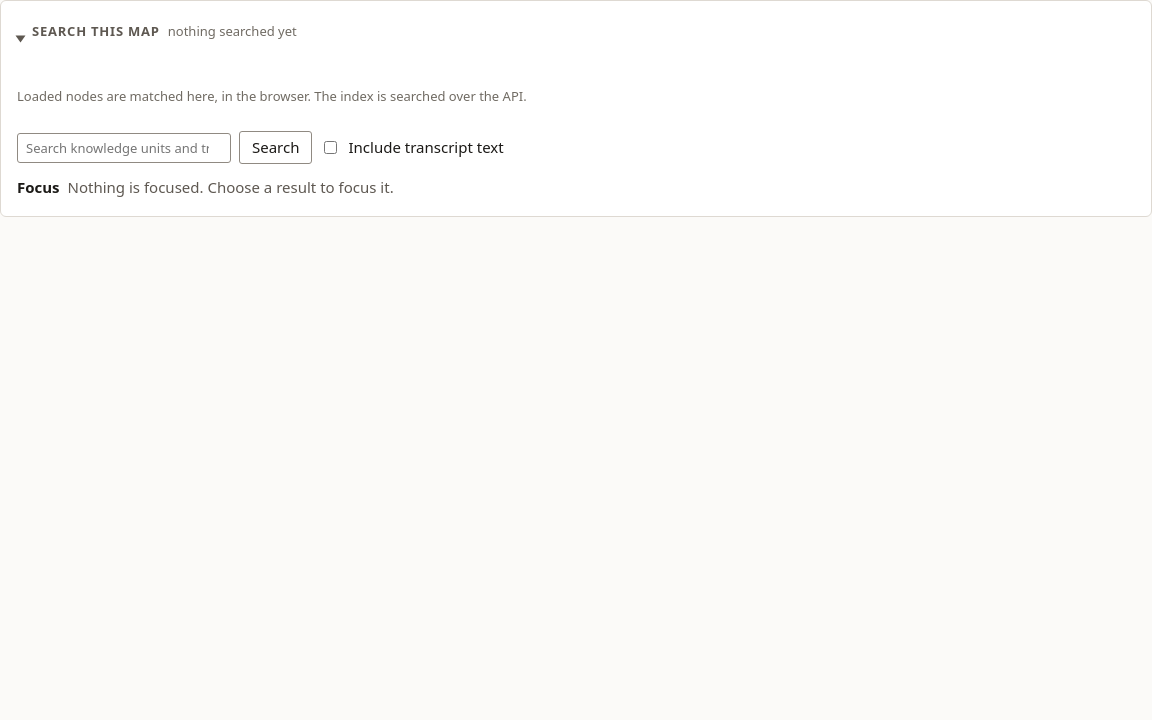
MapSearchRail › explains a caption hit and refuses to make it selectable
Type "coverage" into the search field labelled "Search" at (124, 148), box [17,133,231,163]
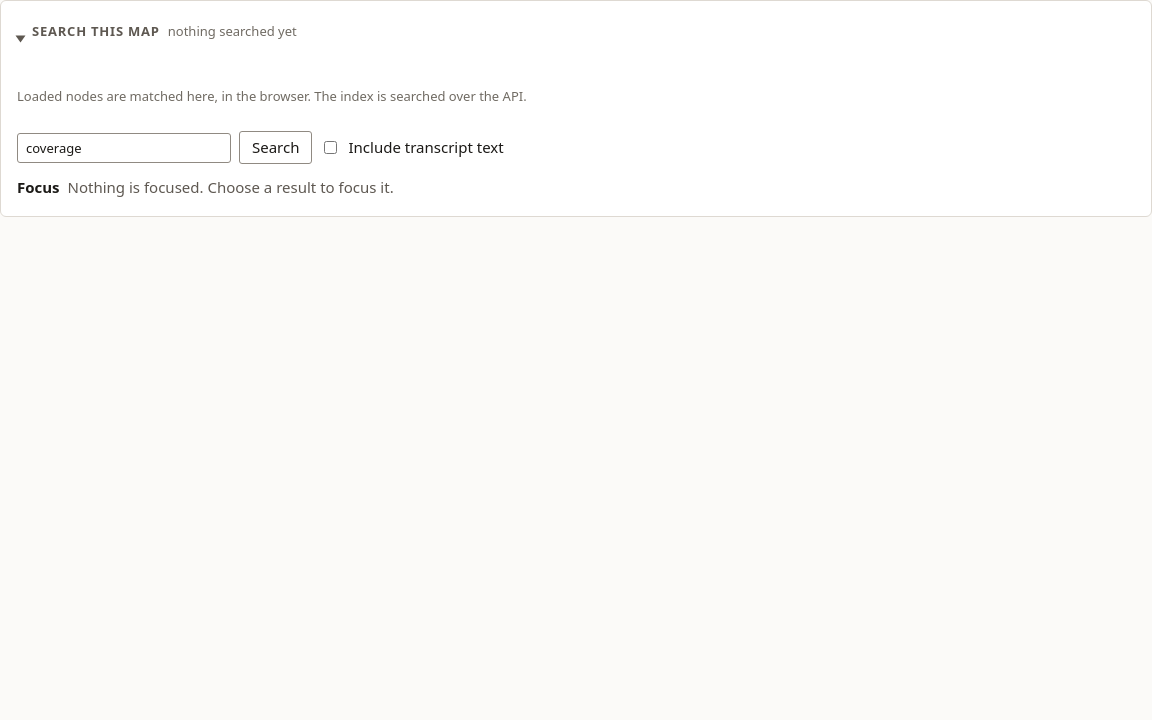
Click the text "Include transcript text" at (412, 148), box [320,136,504,159]
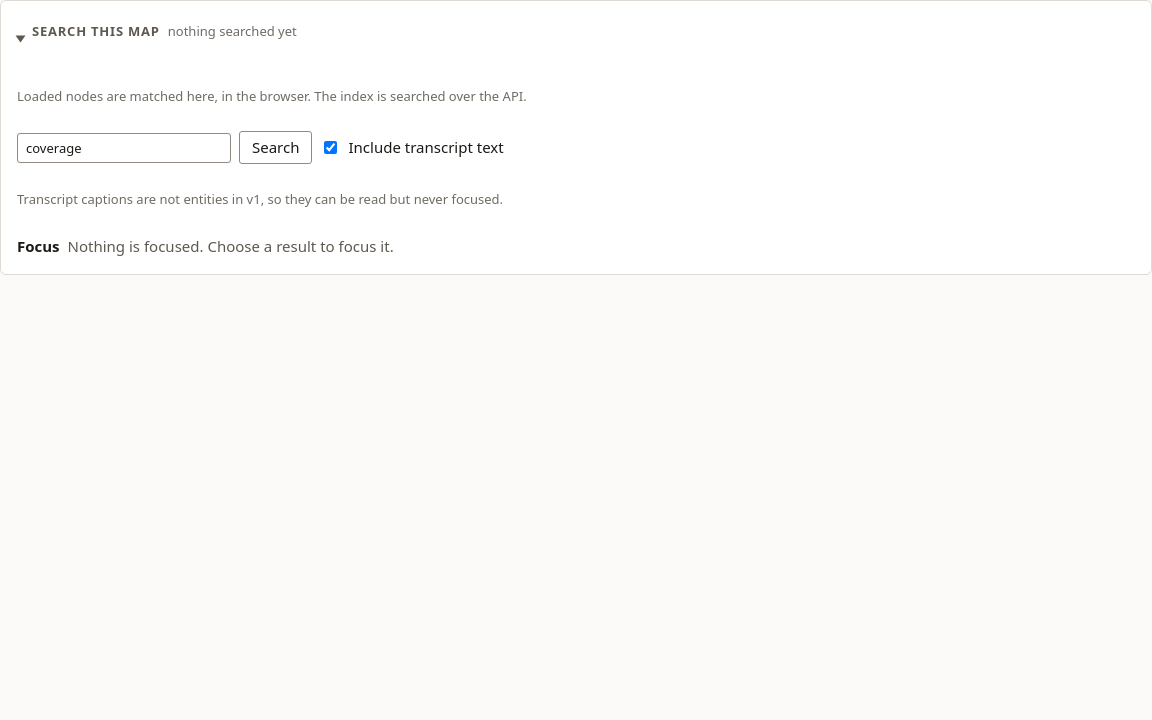
Click the button "Search" at (276, 148), box [239,131,312,164]
(page scrolled)
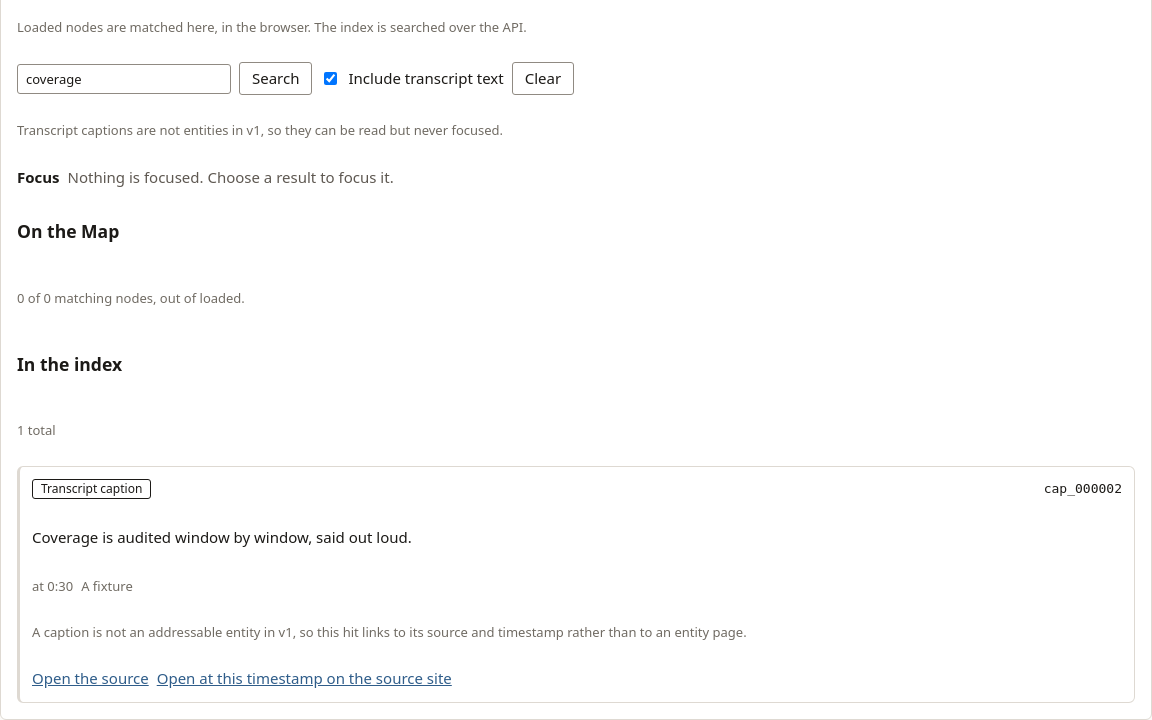
Now the text "not an addressable entity" is shown, box [32,623,747,641]
